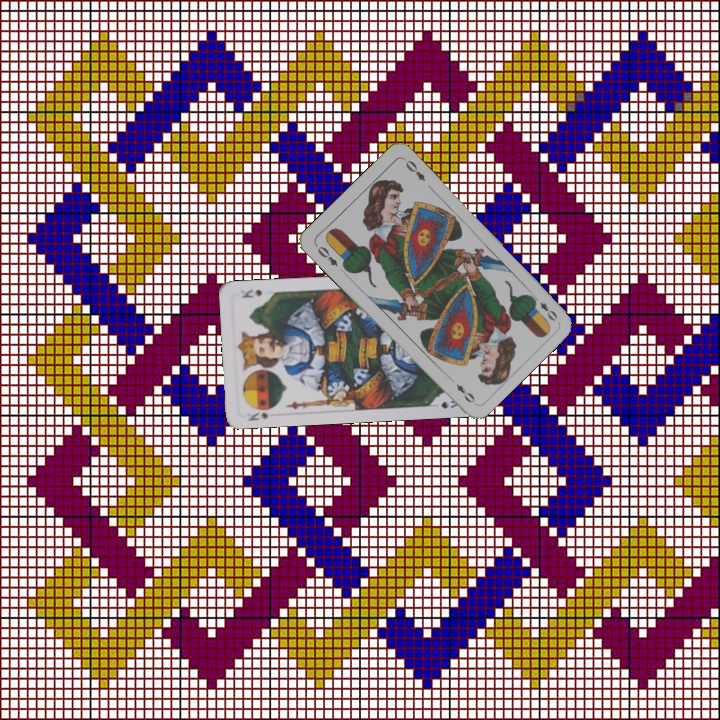EO: (528, 291, 561, 324), (311, 240, 340, 269)
SK: (243, 408, 271, 424)
